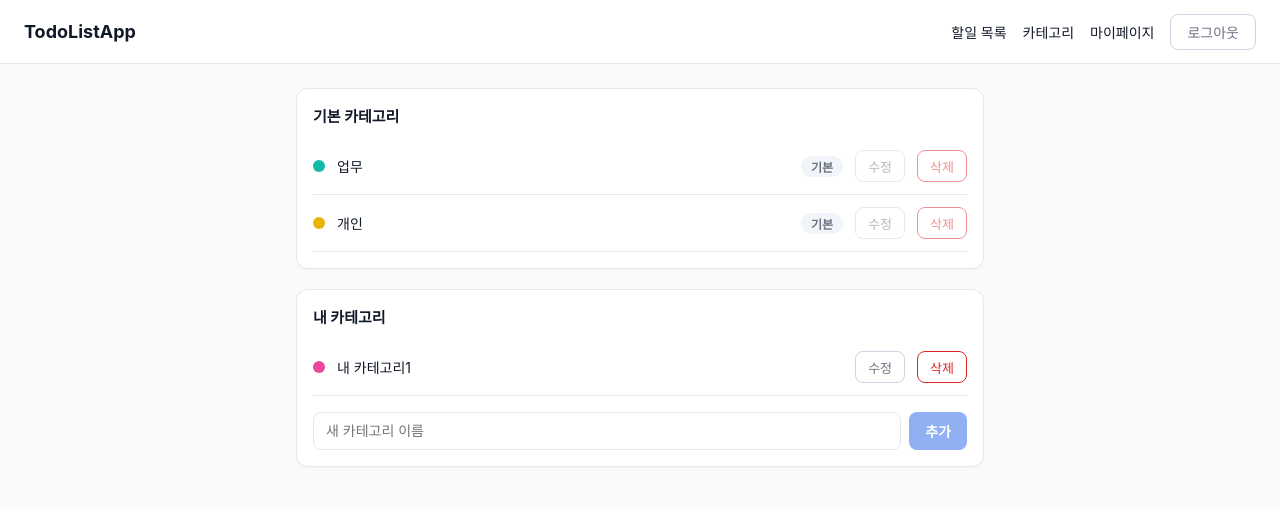
Scenario: CategoriesPage › 추가 시 409 CATEGORY_NAME_DUPLICATED → 친화 오류 메시지 표시
Expected: the heading "내 카테고리" is shown, top-left (313, 308), bottom-right (386, 327)
In the field with placeholder "새 카테고리 이름": (607, 431) top-left (313, 412), bottom-right (901, 450), type "업무"
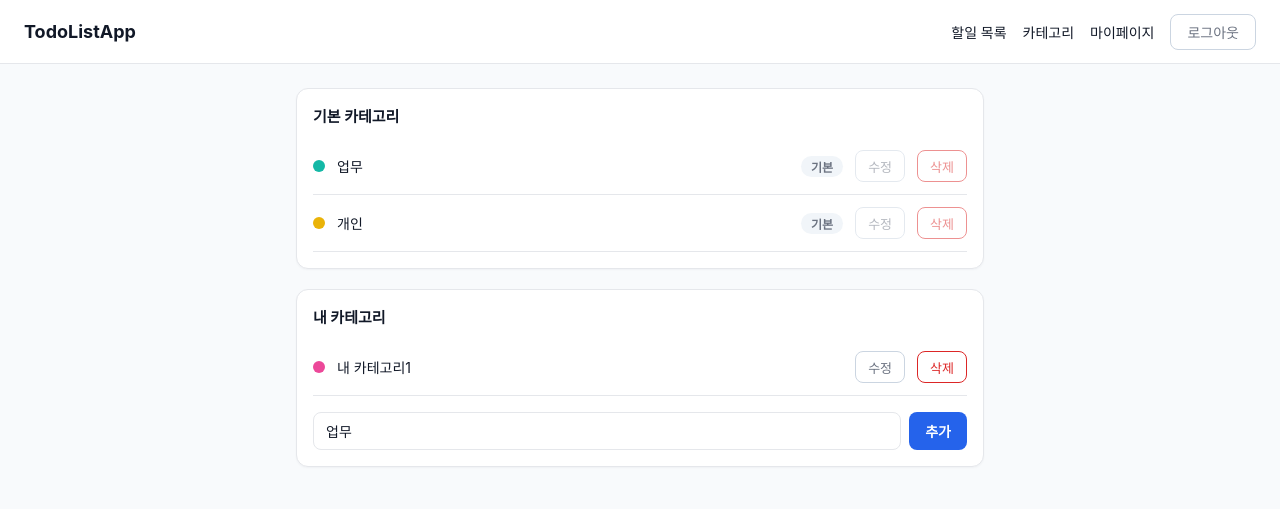
Click the button "추가": (938, 431) top-left (909, 412), bottom-right (967, 450)
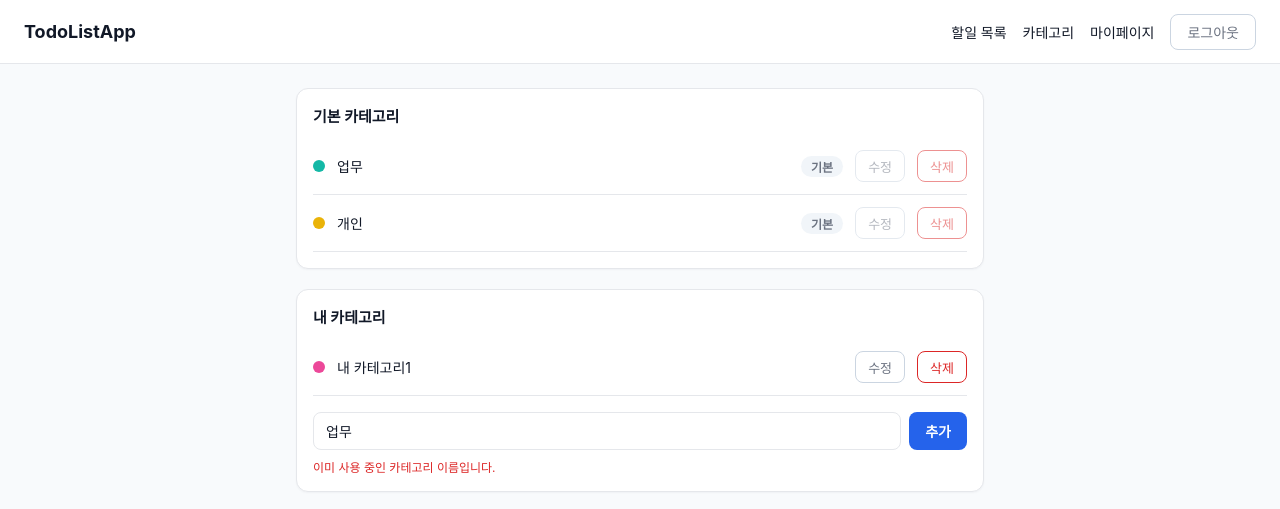
Result: the text "이미 사용 중인 카테고리 이름입니다." is shown at top-left (313, 460), bottom-right (496, 475)
